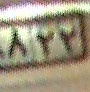character: (34, 27, 57, 59), (8, 28, 30, 60), (59, 23, 79, 58)
